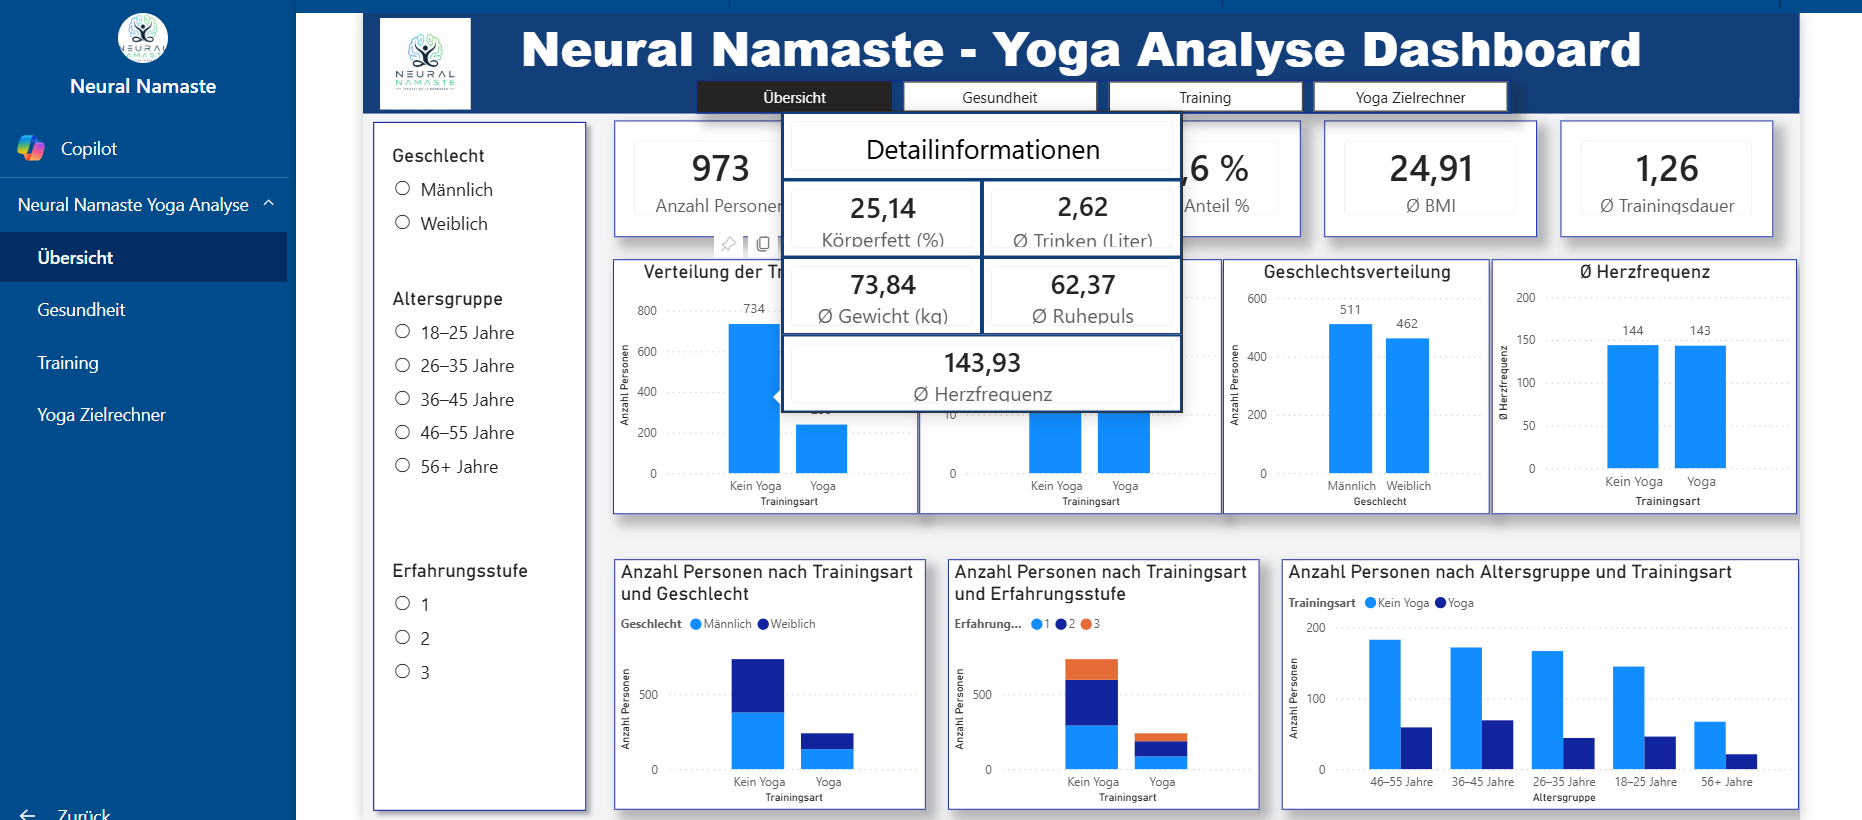

Layout of this report page (visuals, bound fields, positions):
{"tool":"powerbi","page":{"name":"Übersicht","canvas":[1280,720],"ordinal":0},"visuals":[{"type":"shape","title":" Neural Namaste - Yoga Analyse Dashboard ","box":[0,0,1280,90],"z":0},{"type":"shape","box":[0,88,208,632],"z":1000},{"type":"cardVisual","fields":{"Data":["M_Measures.Anzahl Personen"]},"box":[224.3,95.7,189.3,103.9],"z":2000},{"type":"cardVisual","fields":{"Data":["M_Measures.Yoga Anteil %"]},"box":[645.7,95.7,189.3,103.9],"z":3000},{"type":"cardVisual","fields":{"Data":["M_Measures.Ø BMI"]},"box":[856.3,95.7,189.3,103.9],"z":4000},{"type":"cardVisual","fields":{"Data":["M_Measures.Ø Trainingsdauer"]},"box":[1067,95.7,189.3,103.9],"z":5000},{"type":"clusteredColumnChart","title":"Verteilung der Trainingsarten","fields":{"Y":["M_Measures.Anzahl Personen"],"Category":["D_Trainingsart.Trainingsart"]},"box":[222.3,219.2,271.6,227.4],"z":6000},{"type":"image","box":[0,4.1,111.1,81.3],"z":7000},{"type":"clusteredColumnChart","title":"Ø BMI","fields":{"Category":["D_Trainingsart.Trainingsart"],"Y":["M_Measures.Ø BMI"]},"box":[495.6,219.2,269.6,227.4],"z":8000},{"type":"clusteredColumnChart","title":"Geschlechtsverteilung","fields":{"Category":["D_Geschlecht.Geschlecht"],"Y":["M_Measures.Anzahl Personen"]},"box":[766.9,219.2,237.7,227.4],"z":9000},{"type":"clusteredColumnChart","title":"Ø Herzfrequenz ","fields":{"Category":["D_Trainingsart.Trainingsart"],"Y":["M_Measures.Ø Herzfrequenz"]},"box":[1006.3,219.2,271.6,227.4],"z":10000},{"type":"columnChart","fields":{"Category":["D_Trainingsart.Trainingsart"],"Series":["D_Geschlecht.Geschlecht"],"Y":["M_Measures.Anzahl Personen"]},"box":[224.3,486.7,277.8,223.3],"z":11000},{"type":"columnChart","fields":{"Category":["D_Trainingsart.Trainingsart"],"Series":["D_Erfahrungsstufe.Erfahrungsstufe"],"Y":["M_Measures.Anzahl Personen"]},"box":[521.7,486.7,277.8,223.3],"z":12000},{"type":"clusteredColumnChart","fields":{"Category":["D_Alter.Altersgruppe"],"Y":["M_Measures.Anzahl Personen"],"Series":["D_Trainingsart.Trainingsart"]},"box":[819,486.7,461,223.3],"z":13000},{"type":"cardVisual","fields":{"Data":["M_Measures.Anzahl Yoga"]},"box":[435,95.7,189.3,103.9],"z":14000},{"type":"listSlicer","fields":{"Values":["D_Geschlecht.Geschlecht"]},"box":[21.6,117.3,148.2,111.1],"z":15000},{"type":"listSlicer","fields":{"Values":["D_Alter.Altersgruppe"]},"box":[21.6,243.9,159.5,202.7],"z":16000},{"type":"listSlicer","fields":{"Values":["F_Training.Erfahrungsstufe"]},"box":[21.6,486.7,164.6,156.4],"z":17000},{"type":"pageNavigator","box":[297,60,726.6,30],"z":17501}]}

Visuals, with their boxes on the page's 1280x720 design canvas (x1, y1, x2, y2). These are canvas units, not pixel positions in the 1862x820 screenshot, which may show the page scaled, cropped or inside an application window:
" Neural Namaste - Yoga Analyse Dashboard " shape: left=0, top=0, right=1280, bottom=90
shape: left=0, top=88, right=208, bottom=720
cardVisual - M_Measures.Anzahl Personen: left=224, top=96, right=414, bottom=200
cardVisual - M_Measures.Yoga Anteil %: left=646, top=96, right=835, bottom=200
cardVisual - M_Measures.Ø BMI: left=856, top=96, right=1046, bottom=200
cardVisual - M_Measures.Ø Trainingsdauer: left=1067, top=96, right=1256, bottom=200
"Verteilung der Trainingsarten" clusteredColumnChart: left=222, top=219, right=494, bottom=447
image: left=0, top=4, right=111, bottom=85
"Ø BMI" clusteredColumnChart: left=496, top=219, right=765, bottom=447
"Geschlechtsverteilung" clusteredColumnChart: left=767, top=219, right=1005, bottom=447
"Ø Herzfrequenz " clusteredColumnChart: left=1006, top=219, right=1278, bottom=447
columnChart - D_Trainingsart.Trainingsart x D_Geschlecht.Geschlecht: left=224, top=487, right=502, bottom=710
columnChart - D_Trainingsart.Trainingsart x D_Erfahrungsstufe.Erfahrungsstufe: left=522, top=487, right=800, bottom=710
clusteredColumnChart - D_Alter.Altersgruppe x M_Measures.Anzahl Personen: left=819, top=487, right=1280, bottom=710
cardVisual - M_Measures.Anzahl Yoga: left=435, top=96, right=624, bottom=200
listSlicer - D_Geschlecht.Geschlecht: left=22, top=117, right=170, bottom=228
listSlicer - D_Alter.Altersgruppe: left=22, top=244, right=181, bottom=447
listSlicer - F_Training.Erfahrungsstufe: left=22, top=487, right=186, bottom=643
pageNavigator: left=297, top=60, right=1024, bottom=90
